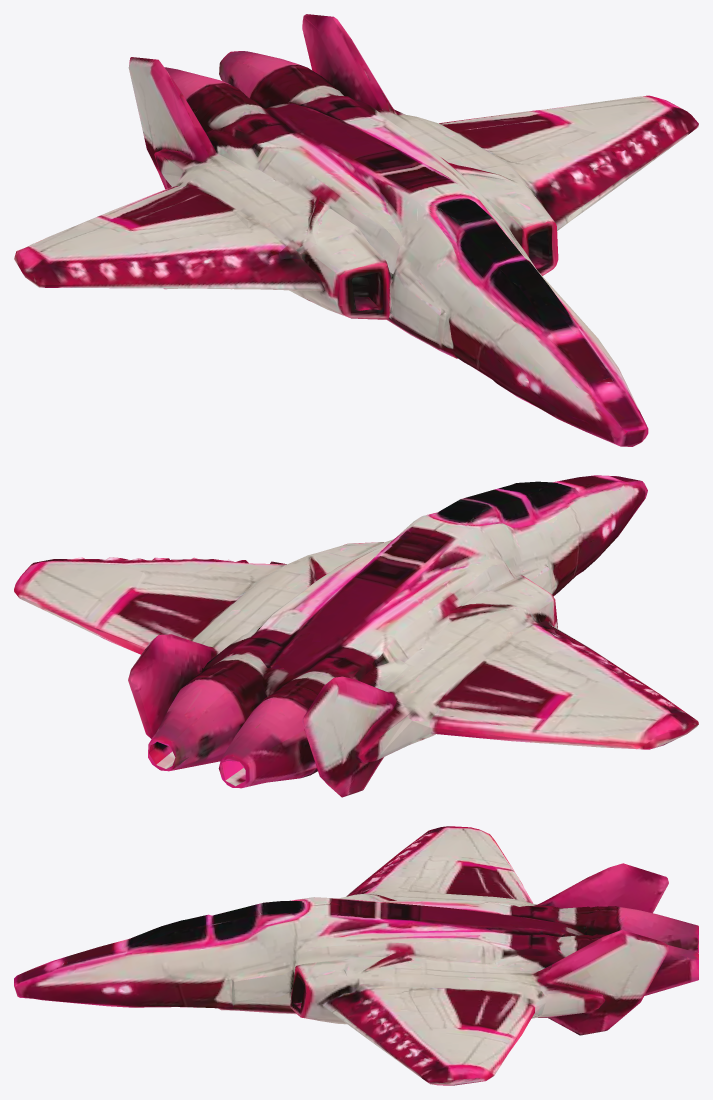
File: nova.glb
3 views of the same model, one above another, from view 1: azimuth 30°, elevation 25°; view 2: azimuth 150°, elevation 25°; view 3: azimuth 270°, elevation 25° (orthographic). The views are drawn at different scales.
Parts seen in each view (by area): view 1: 48a2eb3e-4d76-467d-989c-5494d755e68d_texturing.obj; view 2: 48a2eb3e-4d76-467d-989c-5494d755e68d_texturing.obj; view 3: 48a2eb3e-4d76-467d-989c-5494d755e68d_texturing.obj.
Part boxes in pixels (left/top/right/bottom): 48a2eb3e-4d76-467d-989c-5494d755e68d_texturing.obj: left=14, top=14, right=698, bottom=446; 48a2eb3e-4d76-467d-989c-5494d755e68d_texturing.obj: left=14, top=475, right=698, bottom=797; 48a2eb3e-4d76-467d-989c-5494d755e68d_texturing.obj: left=14, top=826, right=698, bottom=1085.
Size of the model in its own units: 1.74 by 0.3383 by 1.99.
Materials: 1 (1 with a texture image).
